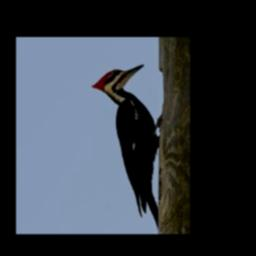Woodpecker: (89, 62, 161, 217)
